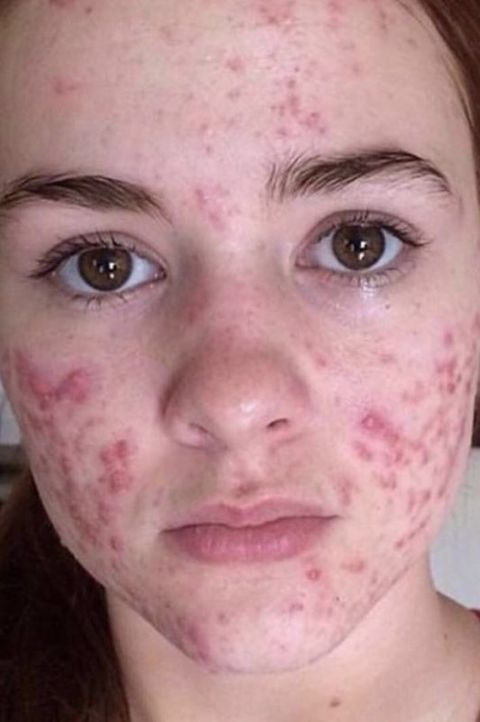Acne: (300, 558, 336, 592), (360, 406, 388, 442)
